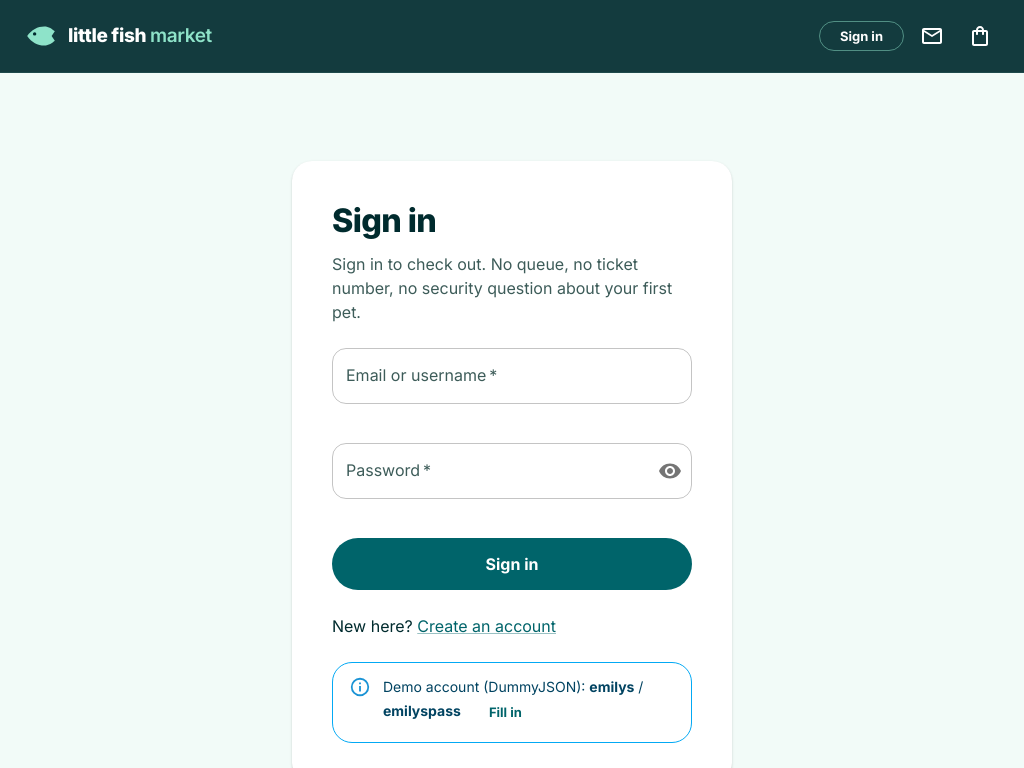
Test: Accessibility (axe) across every route › sign-in page with a validation error
Click the button "Sign in" at (512, 564), box [332,538,692,590]
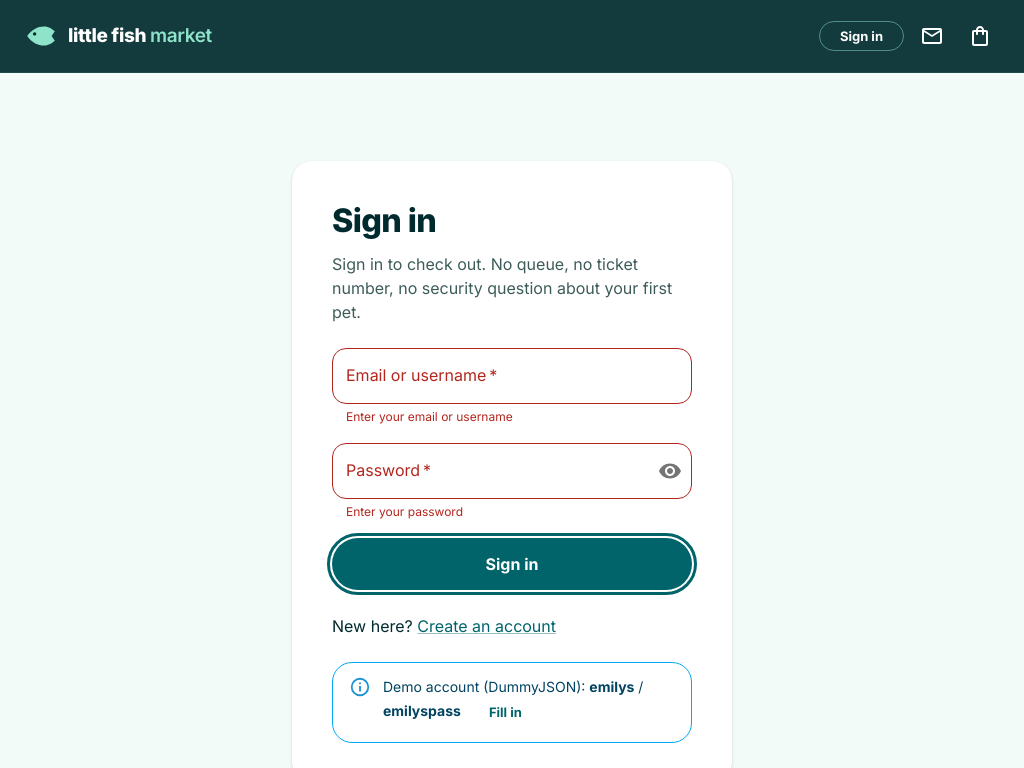
Check: the text "Enter your email or username" is shown, box [346,409,513,424]
